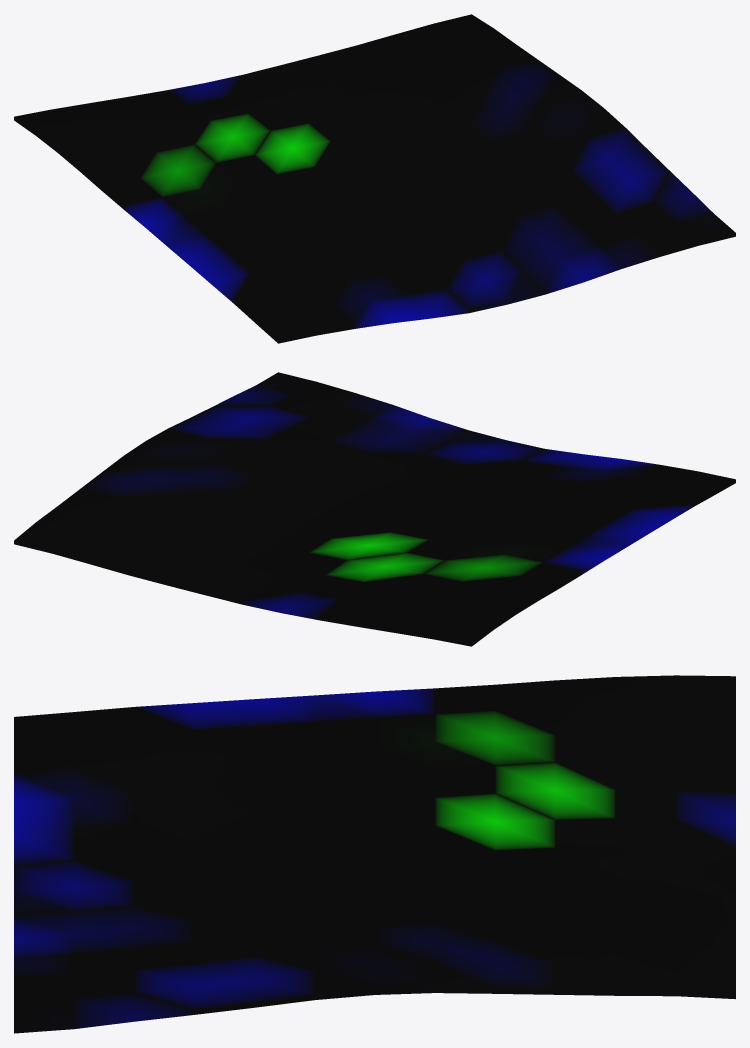
Rendered from coast_8_2.glb.
3 views of the same model, one above another, from view 1: azimuth 30°, elevation 25°; view 2: azimuth 150°, elevation 25°; view 3: azimuth 270°, elevation 25° (orthographic). The views are drawn at different scales.
Visible parts, largest first — view 1: terrain; view 2: terrain; view 3: terrain.
Boxes of the visible parts, x1,y1,x2,y2 form: terrain: [14, 14, 735, 343]; terrain: [14, 372, 735, 646]; terrain: [14, 675, 735, 1033].
Bounding box in the file's own units: 192 × 20.46 × 192.
